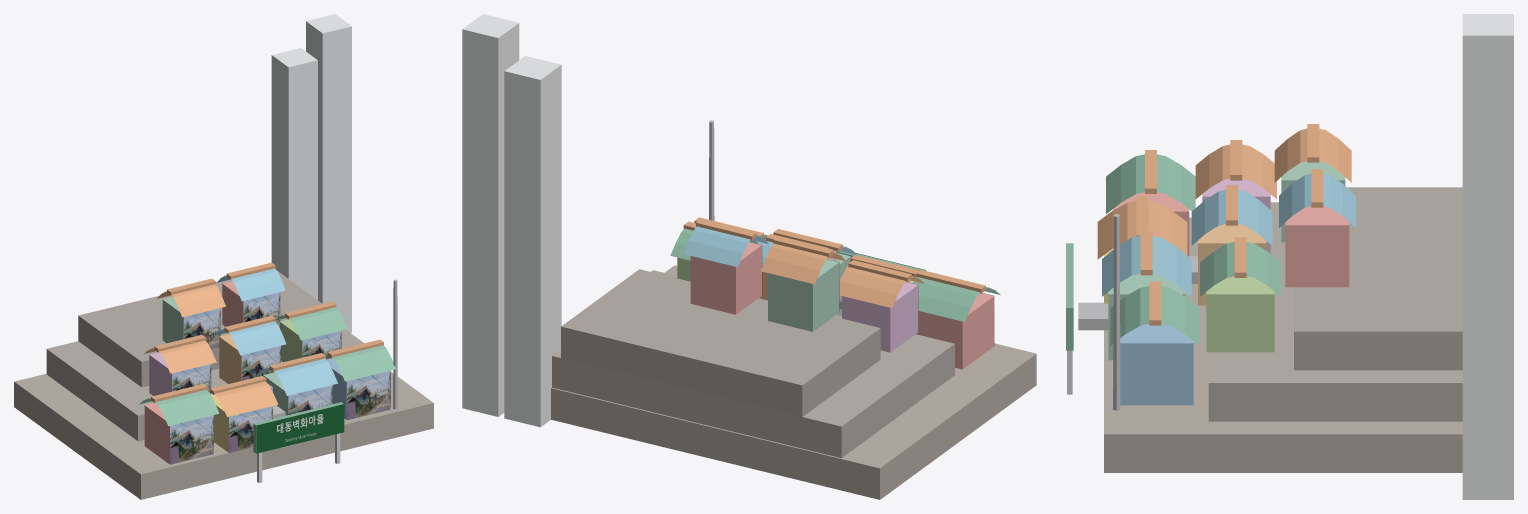
Rendered from building.glb.
3 renders of one model, left to right at view 1: azimuth 30°, elevation 25°; view 2: azimuth 150°, elevation 25°; view 3: azimuth 270°, elevation 25°, orthographic. The views are drawn at different scales.
Size of the model in its own units: 13.5 by 12 by 10.51.
Materials: 18 (2 with a texture image).
